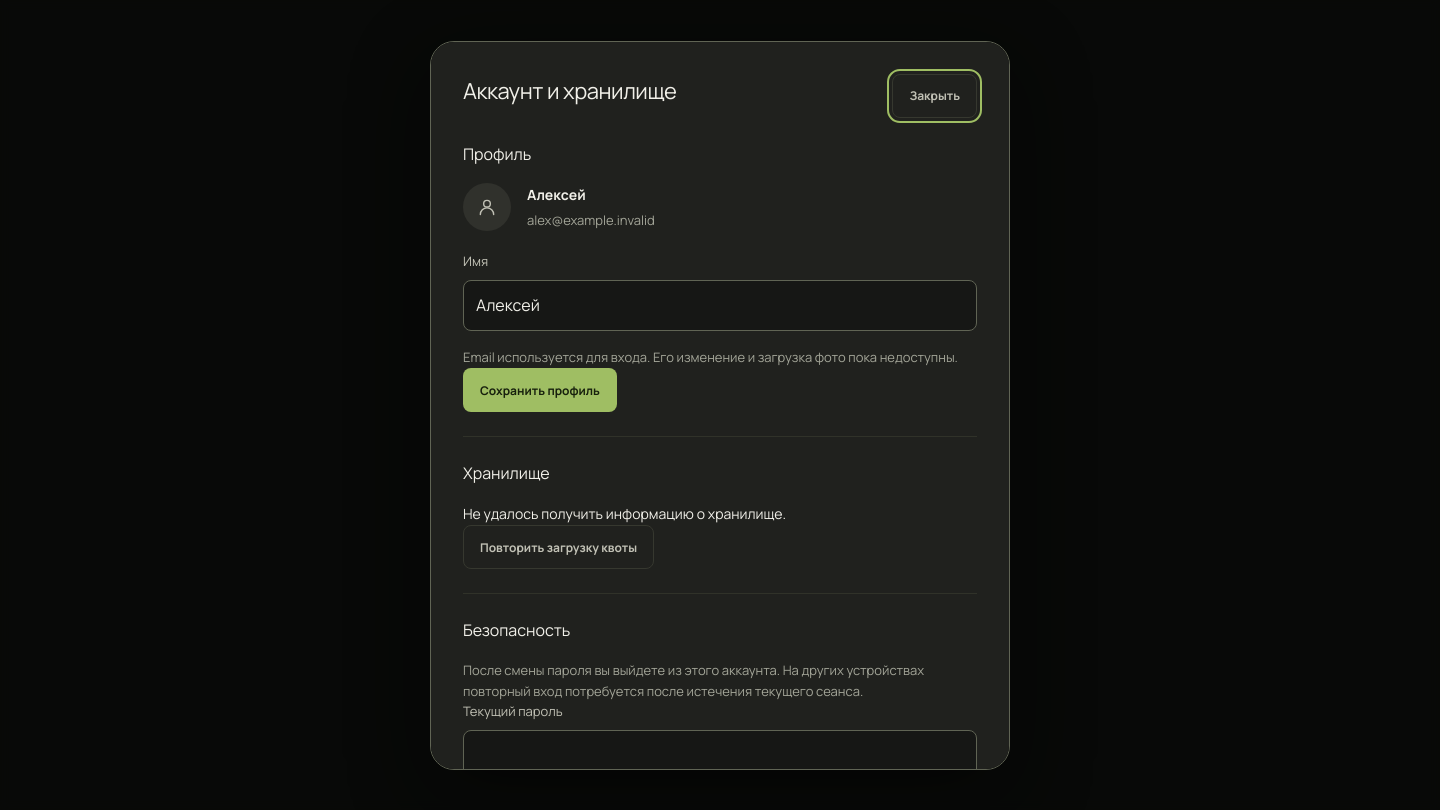
it: AccountDialog › retries failed quota request
Click the button "Повторить загрузку квоты": coordinates (559, 547) [463, 525, 654, 569]
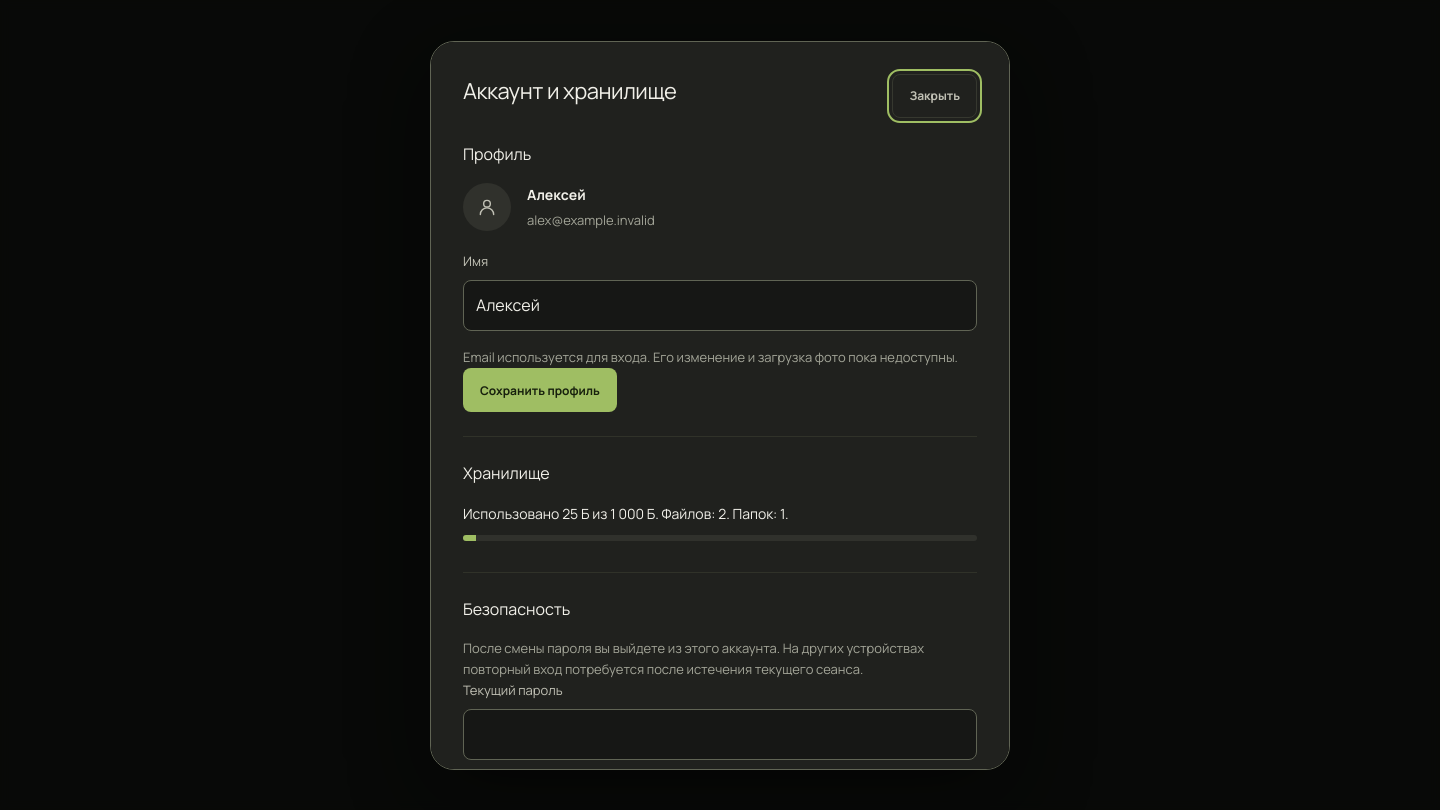
Now the text "Использовано 25 Б из 1 000 Б. Файлов: 2. Папок: 1." is shown, box [463, 504, 789, 523]
